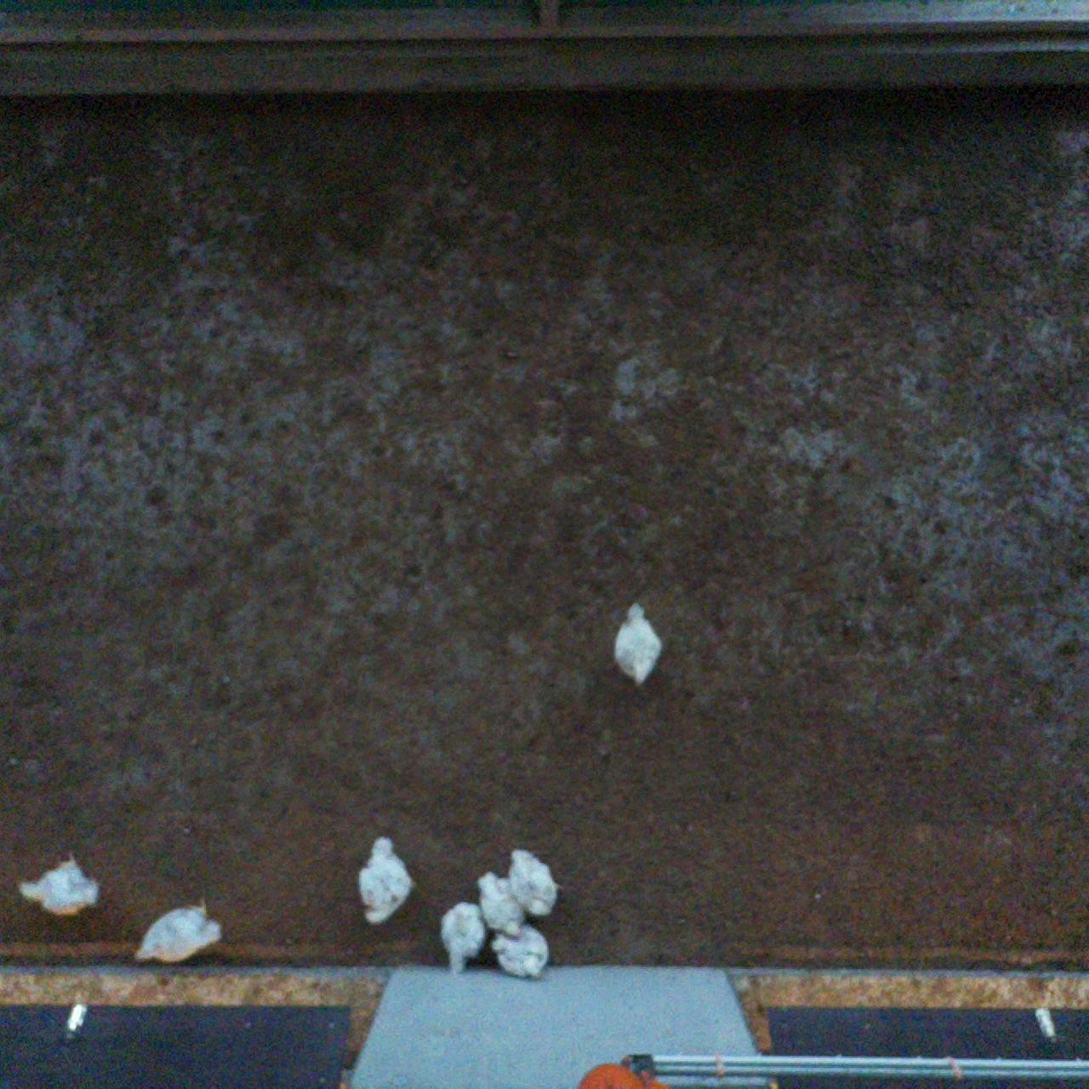chicken: (131, 897, 228, 975), (16, 849, 110, 926), (349, 833, 418, 926), (607, 596, 669, 692), (500, 842, 562, 921), (473, 868, 529, 940), (436, 897, 489, 972), (490, 921, 553, 983)
